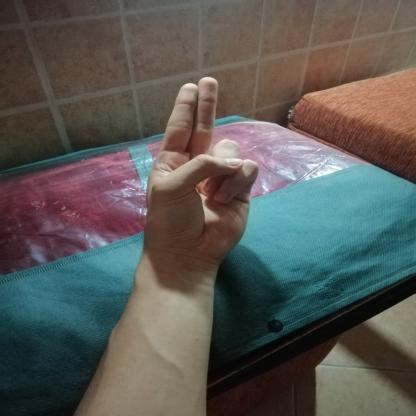TA: (130, 68, 270, 271)
